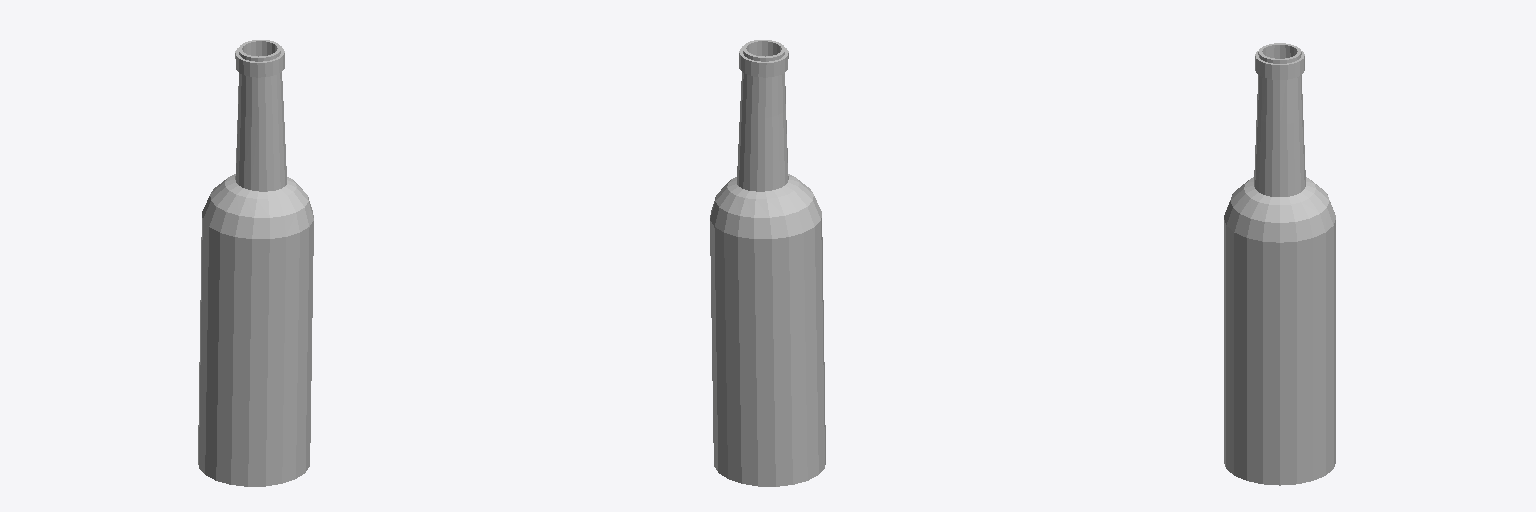
Rendered from WineBottle_Banquet_geo.obj.
3 renders of one model, left to right at view 1: azimuth 30°, elevation 25°; view 2: azimuth 150°, elevation 25°; view 3: azimuth 270°, elevation 25°, orthographic.
Parts seen in each view (by area): view 1: REDO:WineBottle; view 2: REDO:WineBottle; view 3: REDO:WineBottle.
Part boxes in pixels (x1,y1,x2,y2): REDO:WineBottle: (198,40,313,486); REDO:WineBottle: (710,40,825,486); REDO:WineBottle: (1224,43,1335,485).
Bounding box in the file's own units: 1.6 × 6.21 × 1.54.